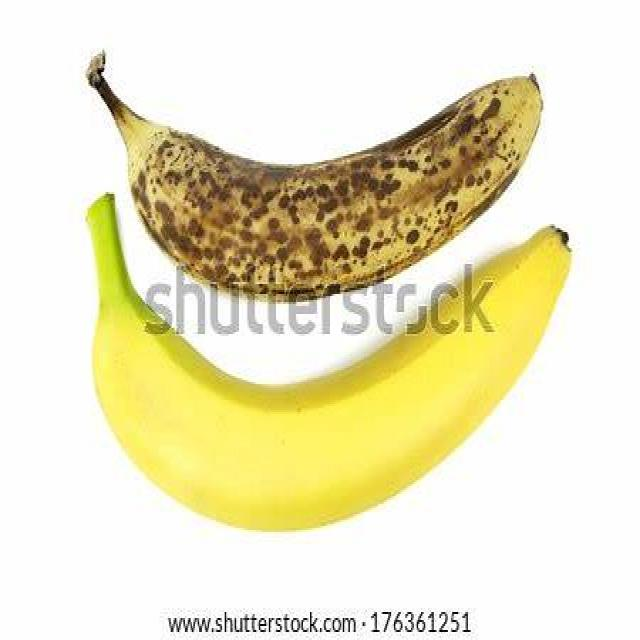Banana: (79, 199, 571, 534), (88, 54, 543, 298)
